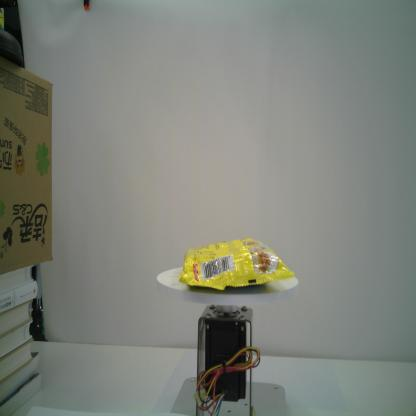Instant Noodles: (178, 237, 295, 291)
